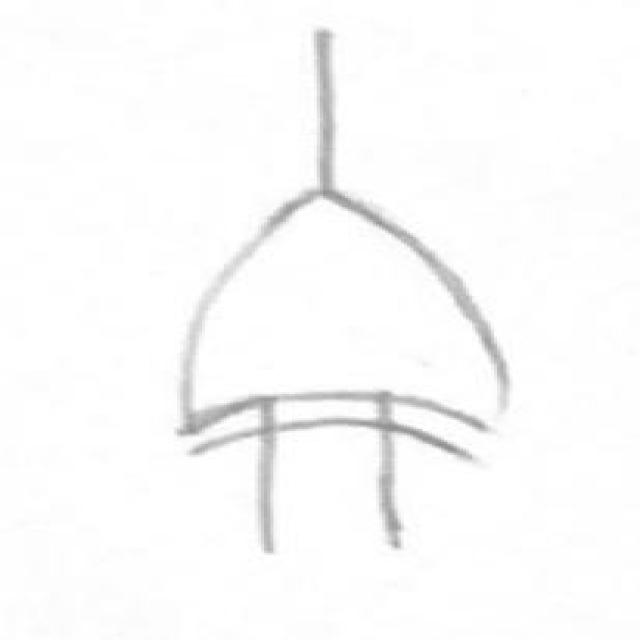XOR: (141, 175, 577, 484)
